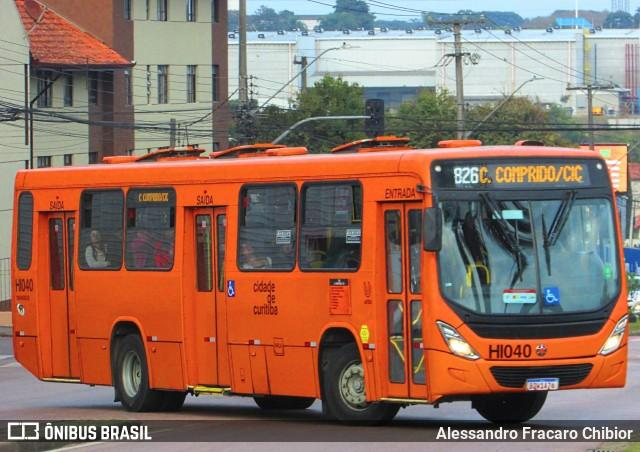C. COMPRIDO CIC: (477, 163, 586, 187)
